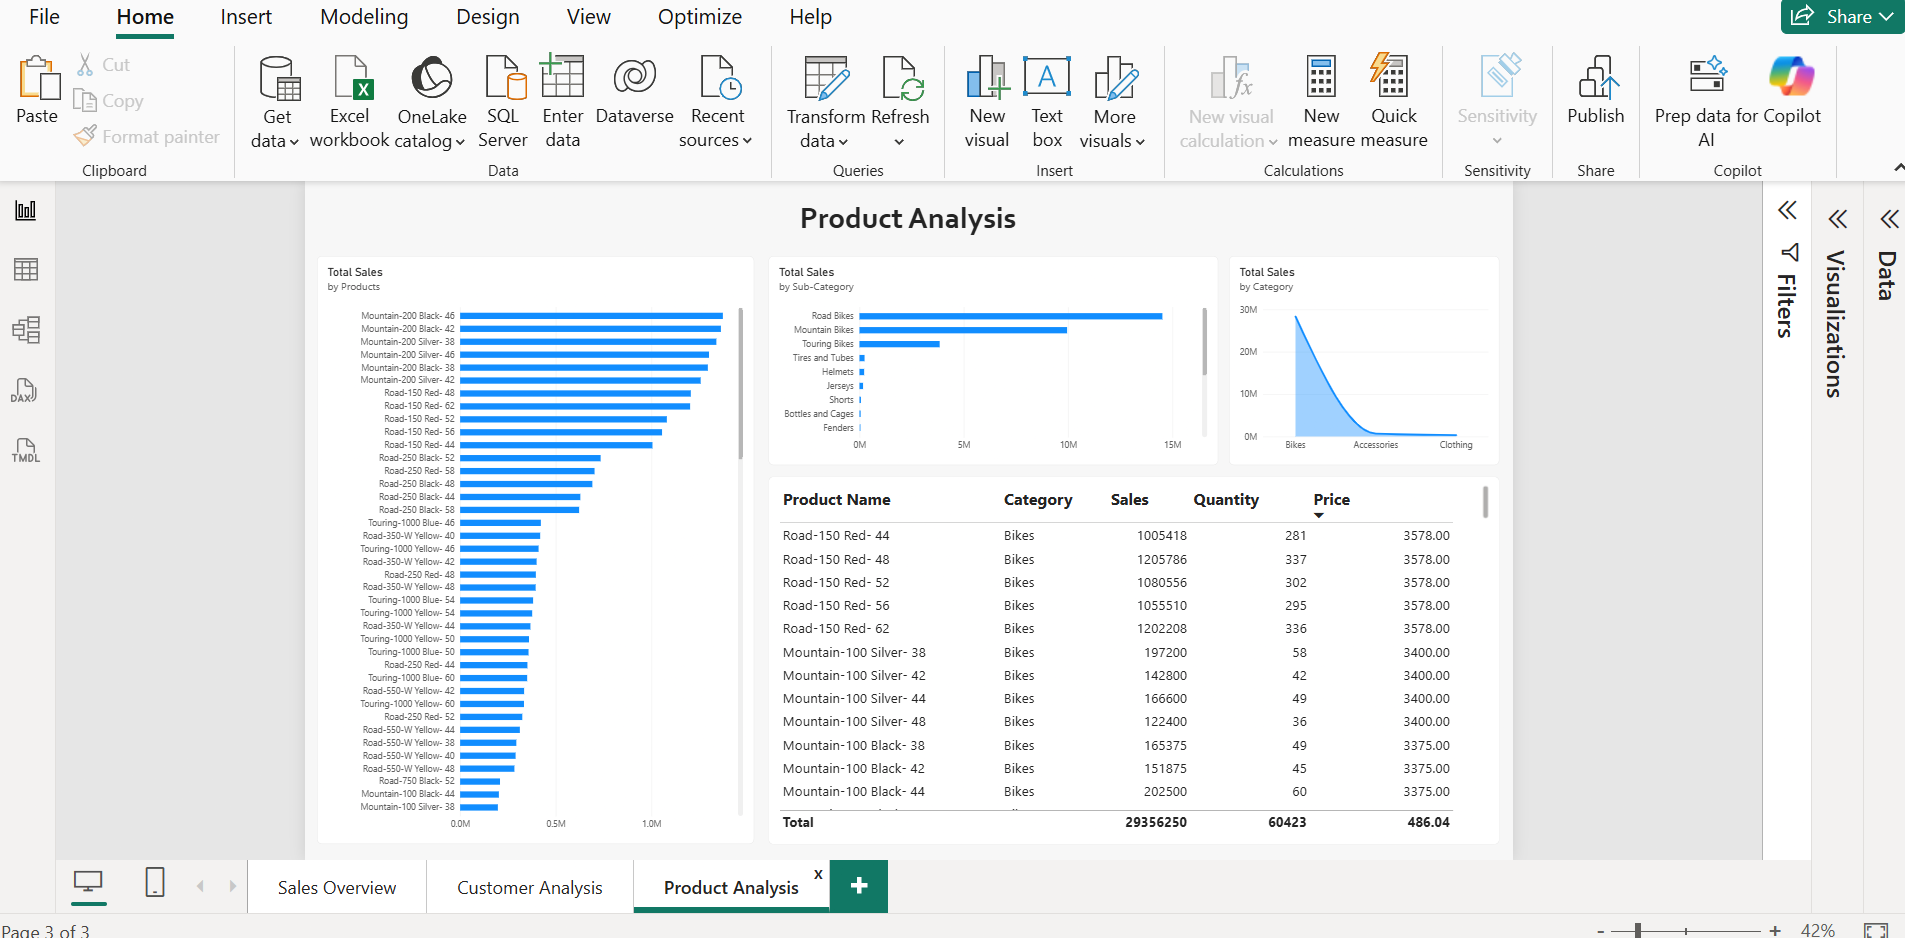

The dashboard page shown, as its layout file describes it:
{"tool":"powerbi","page":{"name":"Product Analysis","canvas":[1920,1080],"ordinal":2},"visuals":[{"type":"clusteredBarChart","fields":{"Category":["dim_products.product_name"],"Y":["fact_sales.Total Sales"]},"box":[20,120,695,935],"z":0},{"type":"stackedAreaChart","fields":{"Category":["dim_products.category"],"Y":["fact_sales.Total Sales"]},"box":[1470,120,430,332.5],"z":1000},{"type":"clusteredBarChart","fields":{"Category":["dim_products.subcategory"],"Y":["fact_sales.Total Sales"]},"box":[737.5,120,715,332.5],"z":2000},{"type":"tableEx","fields":{"Values":["dim_products.product_name","dim_products.category","Sum(fact_sales.sales_amount)","Sum(fact_sales.quantity)","Avg(fact_sales.price)"]},"box":[737.5,470,1162.5,585],"z":3000},{"type":"textbox","box":[20,27.5,1880,75],"z":4000}]}

Visuals, with their boxes on the page's 1920x1080 design canvas (x1, y1, x2, y2). These are canvas units, not pixel positions in the 1905x938 screenshot, which may show the page scaled, cropped or inside an application window:
clusteredBarChart - dim_products.product_name x fact_sales.Total Sales: select_region(20, 120, 715, 1055)
stackedAreaChart - dim_products.category x fact_sales.Total Sales: select_region(1470, 120, 1900, 452)
clusteredBarChart - dim_products.subcategory x fact_sales.Total Sales: select_region(738, 120, 1452, 452)
tableEx - dim_products.product_name x dim_products.category: select_region(738, 470, 1900, 1055)
textbox: select_region(20, 28, 1900, 102)
